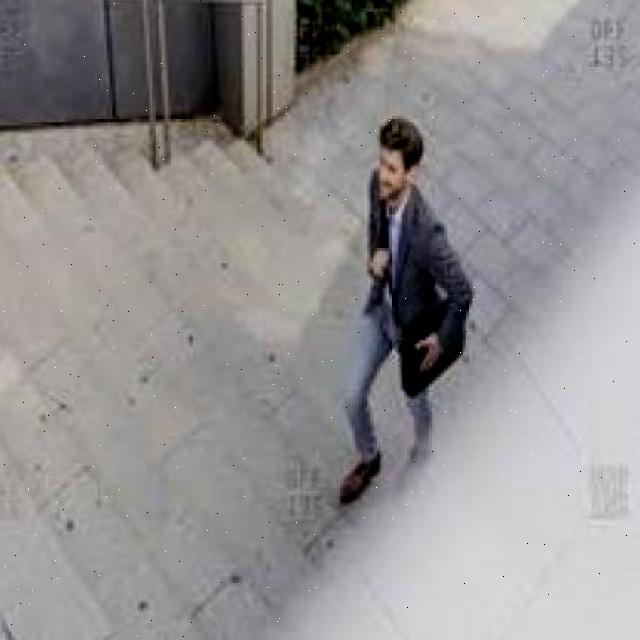stair: (0, 203, 384, 561)
